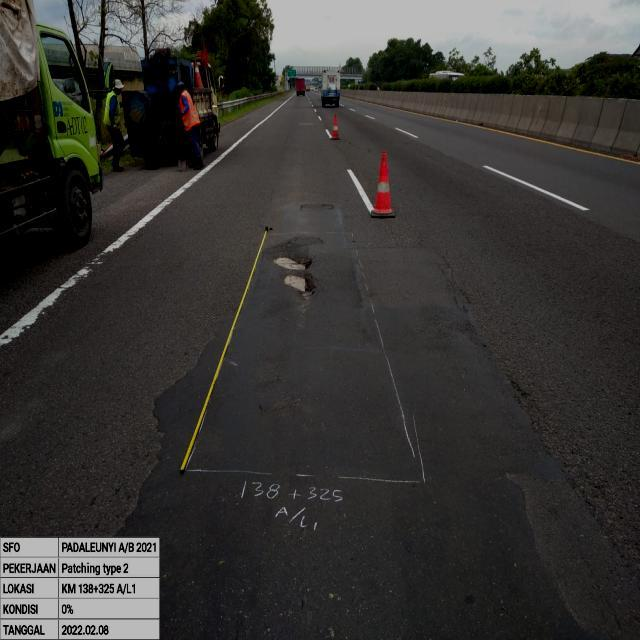Buraco: (266, 250, 323, 302)
